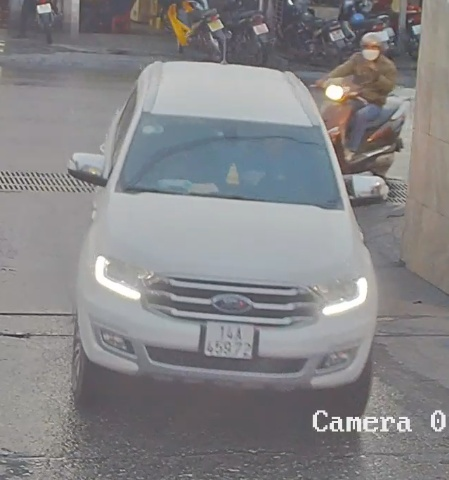vehicle plate: (200, 315, 257, 363)
